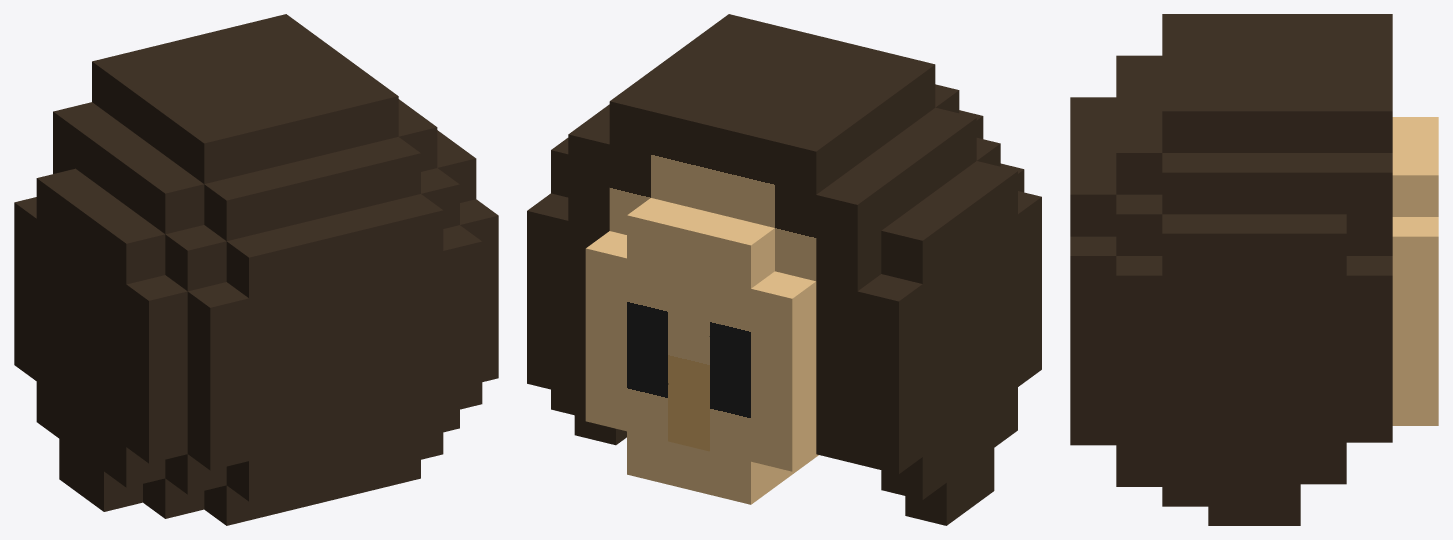
File: mob_flores_head.dae
3 renders of one model, left to right at view 1: azimuth 30°, elevation 25°; view 2: azimuth 150°, elevation 25°; view 3: azimuth 270°, elevation 25°, orthographic. The views are drawn at different scales.
Visible parts, largest first — view 1: mob_flores_head; view 2: mob_flores_head; view 3: mob_flores_head.
Boxes of the visible parts, box(x1,y1,x2,y2) form: mob_flores_head: box(14, 14, 498, 525); mob_flores_head: box(527, 14, 1041, 525); mob_flores_head: box(1070, 14, 1438, 525).
Bounding box in the file's own units: 0.9 × 0.8 × 0.9.
1 material, 1 textured.
